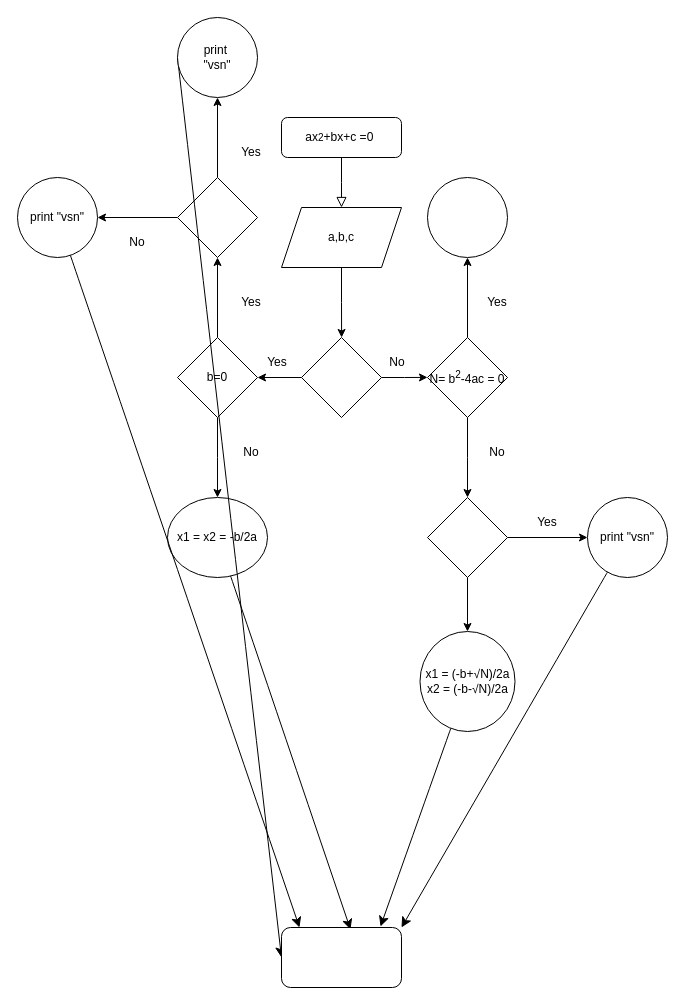
Image size: 685x1005. Some labels were removed from this diagram. Here are the shapes that lost their labels. From the top down, the centre of each, then its label:
the point at 217,217: c=0
the point at 467,217: x1=x2=-b/2a
the point at 341,377: a=0
the point at 467,537: N < 0
the point at 341,957: end
